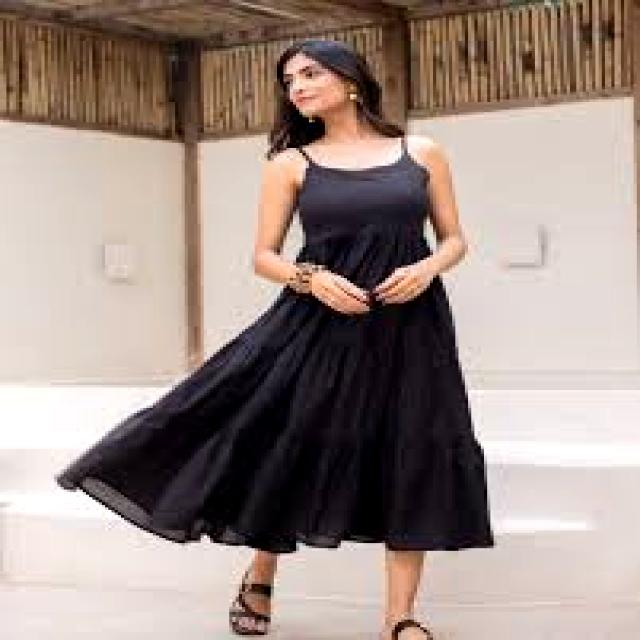dress: (55, 278, 493, 553)
